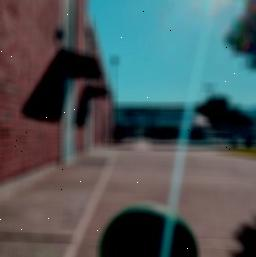algae: (96, 199, 200, 257)
